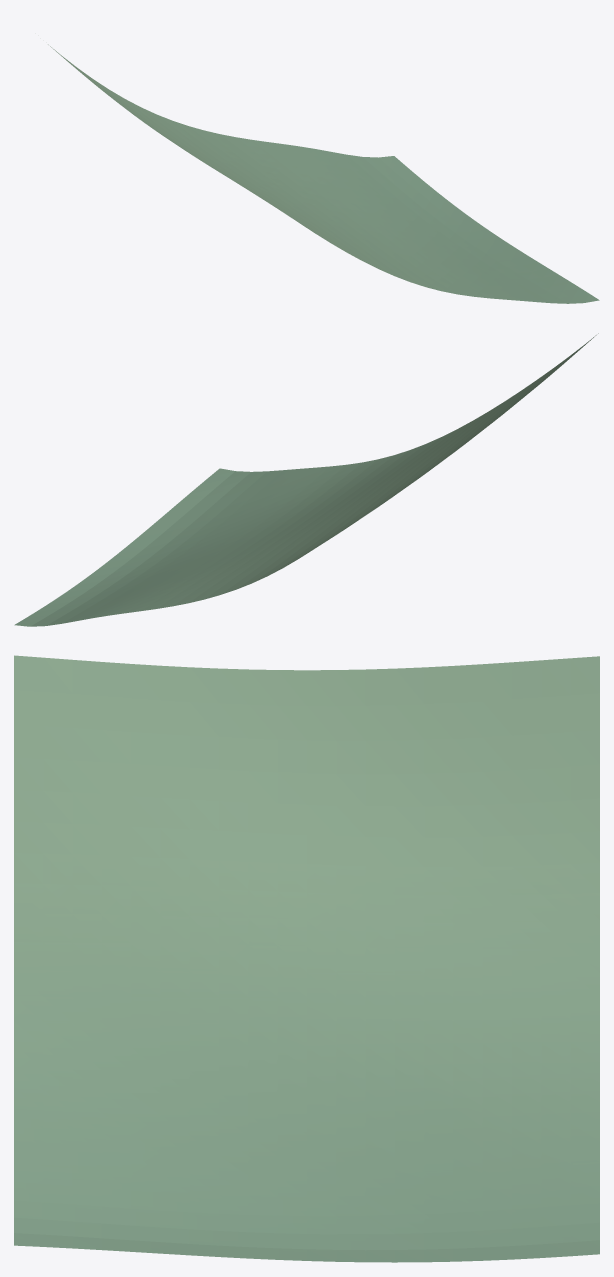
Rendered from terreno_0_0.glb.
3 renders of one model, top to bottom at view 1: azimuth 30°, elevation 25°; view 2: azimuth 150°, elevation 25°; view 3: azimuth 270°, elevation 25°, orthographic. The views are drawn at different scales.
Parts seen in each view (by area): view 1: terreno_0_0; view 2: terreno_0_0; view 3: terreno_0_0.
Boxes of the visible parts, x1,y1,x2,y2 form: terreno_0_0: (48,44,599,303); terreno_0_0: (14,333,598,626); terreno_0_0: (14,655,599,1262).
Bounding box in the file's own units: 112 × 67.79 × 105.
